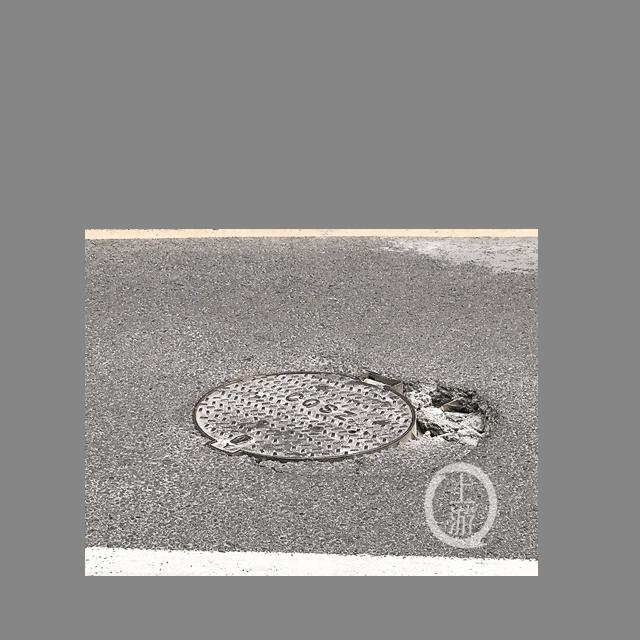circle: (187, 365, 505, 473)
